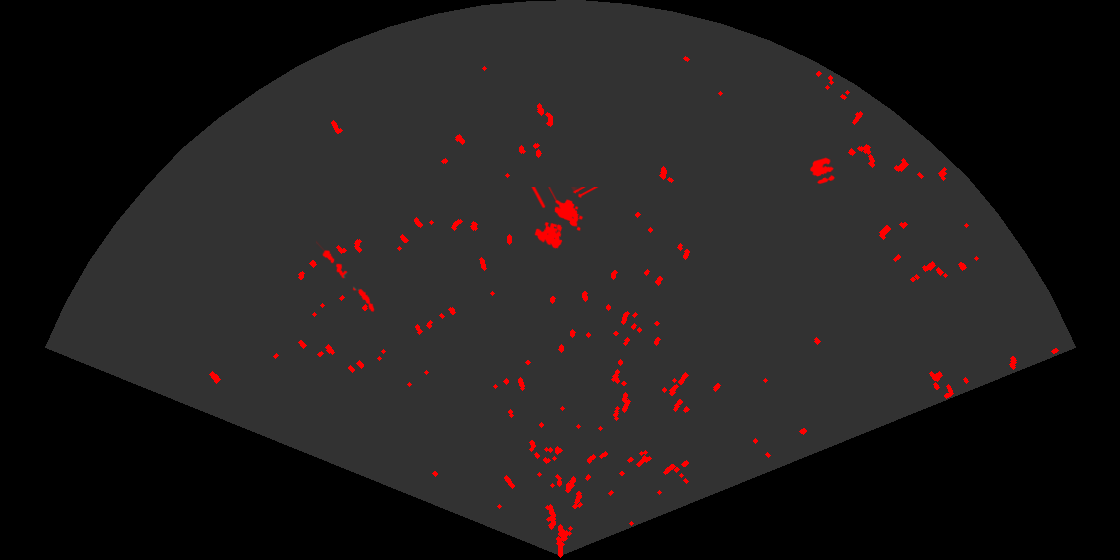ball: (808, 156, 837, 186)
cage: (530, 187, 600, 250)
chain: (316, 239, 376, 314)
